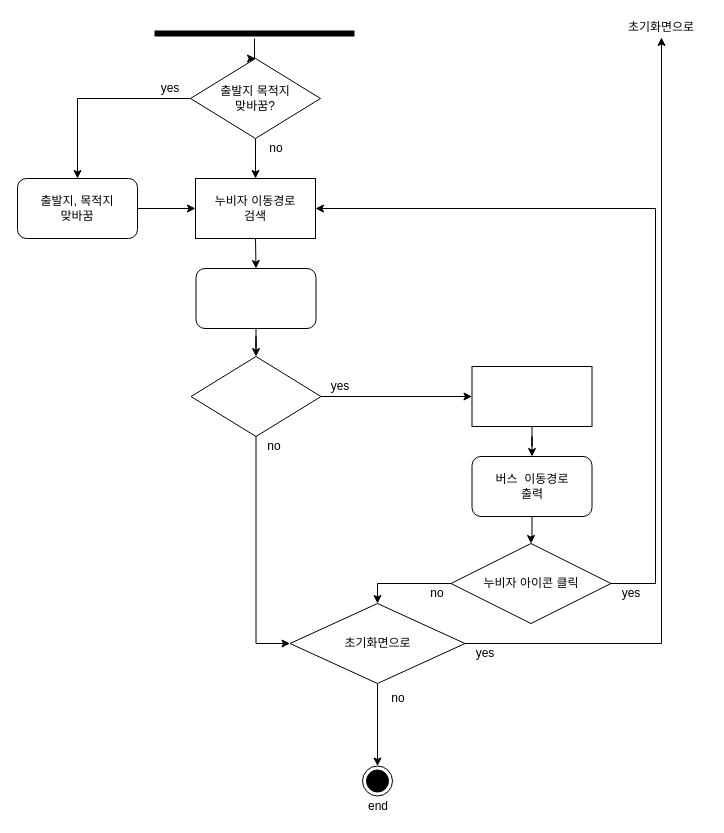
The diagram is 724 pixels wide and 833 high, and some of its shapes have lost their labels. The shapes that lost their labels are listed below. From the top down, each one's centre as x and y in pixels, then its label:
At point (255, 298): "누비자 이동경로 출력".
At point (255, 396): "버스 아이콘 클릭".
At point (531, 396): "버스 이동경로 검색".
